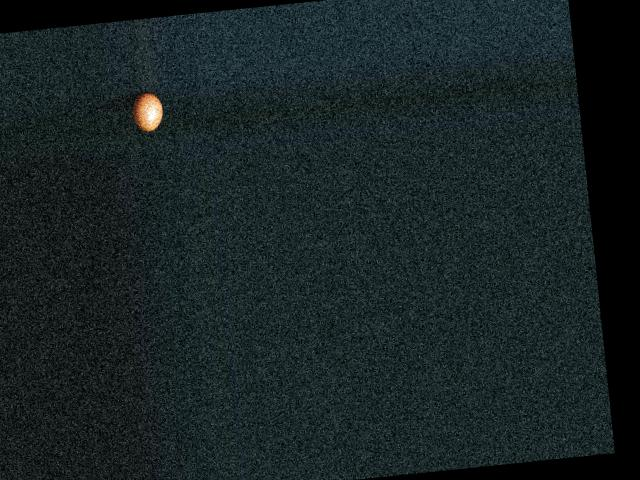egg: (129, 90, 163, 132)
